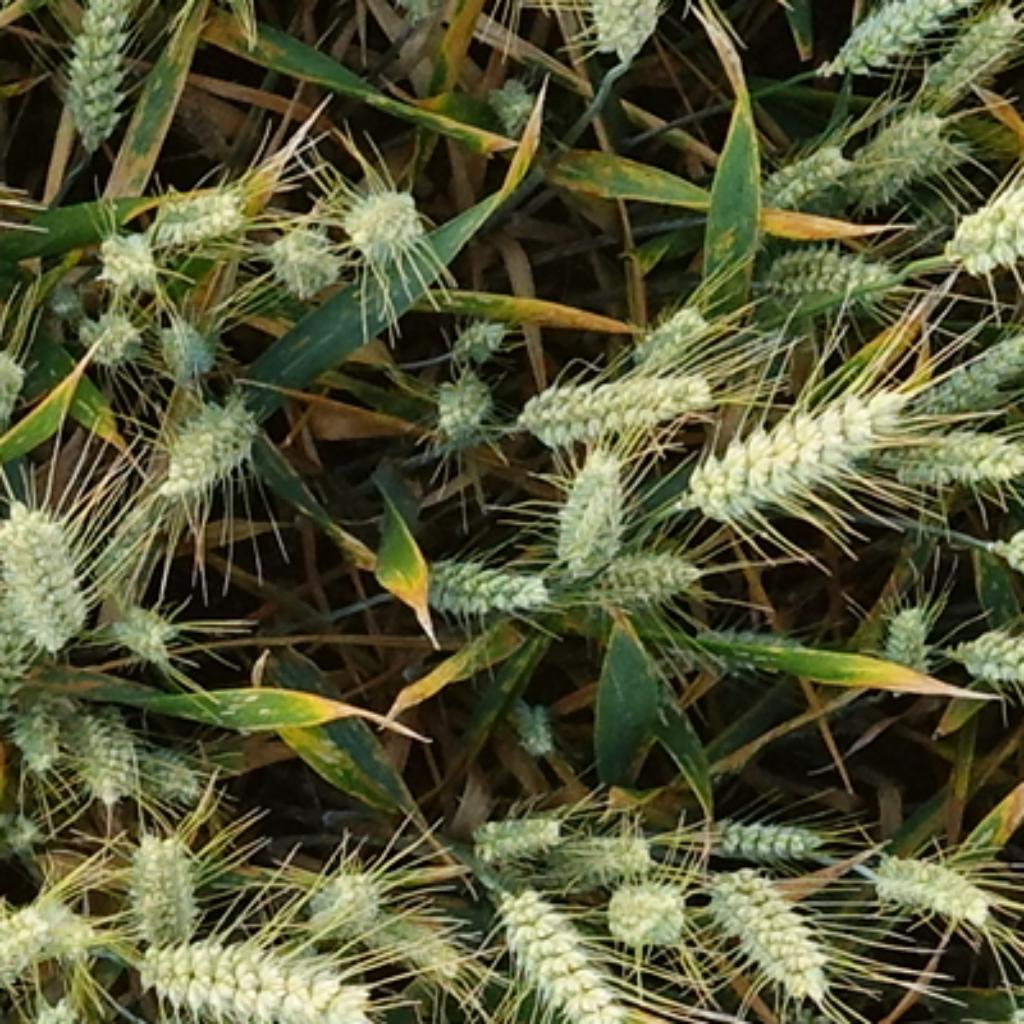0-0: (670, 378, 911, 524), (128, 913, 376, 1024), (491, 880, 637, 1024), (704, 855, 834, 990), (506, 355, 716, 437), (0, 483, 94, 650), (148, 378, 271, 501), (53, 2, 148, 153), (823, 107, 943, 210), (862, 834, 998, 919), (745, 245, 907, 315), (545, 437, 632, 565), (412, 540, 555, 616), (911, 314, 1021, 409), (885, 414, 1021, 486), (826, 2, 962, 71), (921, 2, 1021, 92), (61, 691, 145, 796), (581, 532, 701, 604), (135, 176, 248, 250), (752, 125, 857, 204), (84, 496, 158, 604), (363, 890, 455, 975), (939, 168, 1021, 263), (337, 176, 427, 261), (678, 611, 801, 673), (545, 814, 652, 883), (701, 801, 826, 860), (601, 865, 691, 939), (624, 289, 714, 363), (299, 852, 386, 926), (9, 680, 75, 775), (424, 358, 499, 440), (465, 796, 565, 857), (261, 212, 340, 289), (27, 892, 94, 971), (0, 898, 56, 988), (102, 588, 176, 655), (581, 2, 678, 53), (153, 302, 222, 373), (128, 732, 202, 798), (945, 624, 1024, 685), (92, 217, 158, 286), (0, 645, 35, 771), (79, 296, 143, 363), (872, 591, 931, 663), (473, 66, 537, 128), (442, 307, 512, 358), (499, 688, 555, 750), (907, 137, 980, 182), (0, 317, 30, 414), (0, 791, 46, 852), (20, 985, 89, 1024), (980, 527, 1024, 576)
